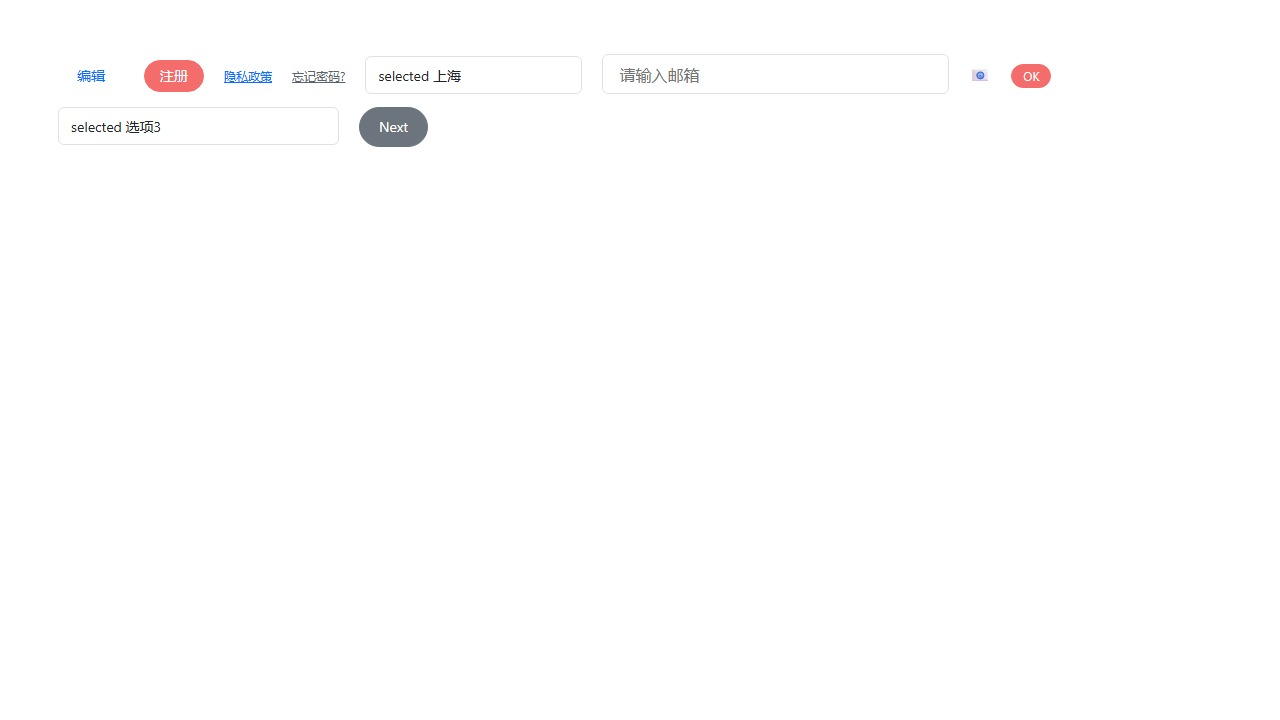button: (359, 106, 428, 146), (58, 56, 124, 94), (144, 60, 204, 91), (1011, 64, 1051, 87)
icon: (969, 66, 991, 82)
input: (602, 54, 949, 94)
link: (292, 68, 345, 83), (224, 68, 272, 83)
select: (58, 107, 339, 145), (365, 56, 582, 94)
